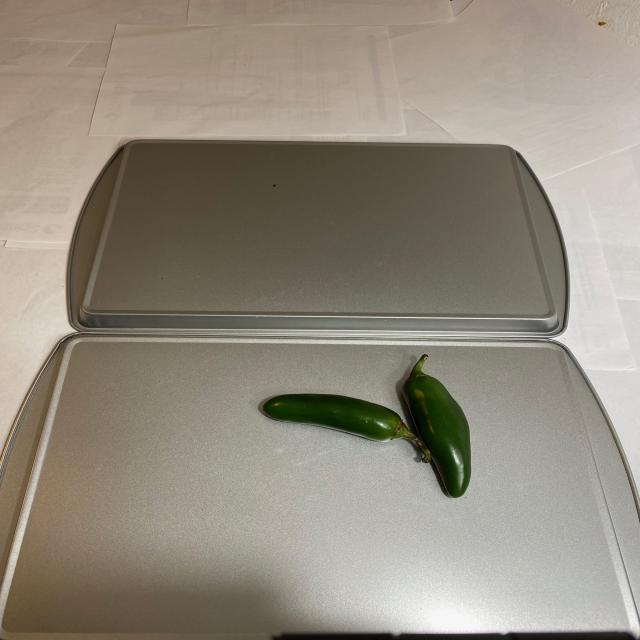chilli: (259, 352, 468, 498)
